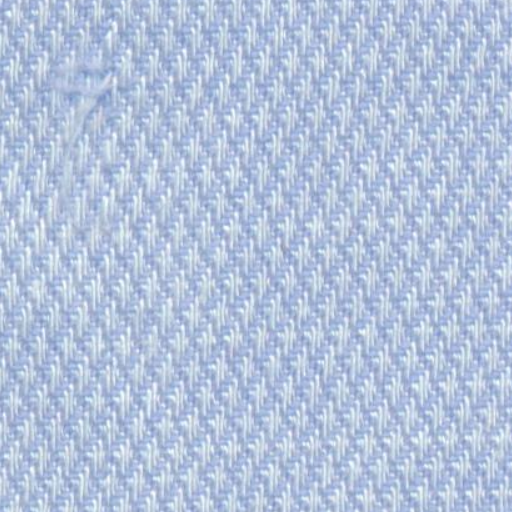DuanSha: (37, 44, 138, 183)
